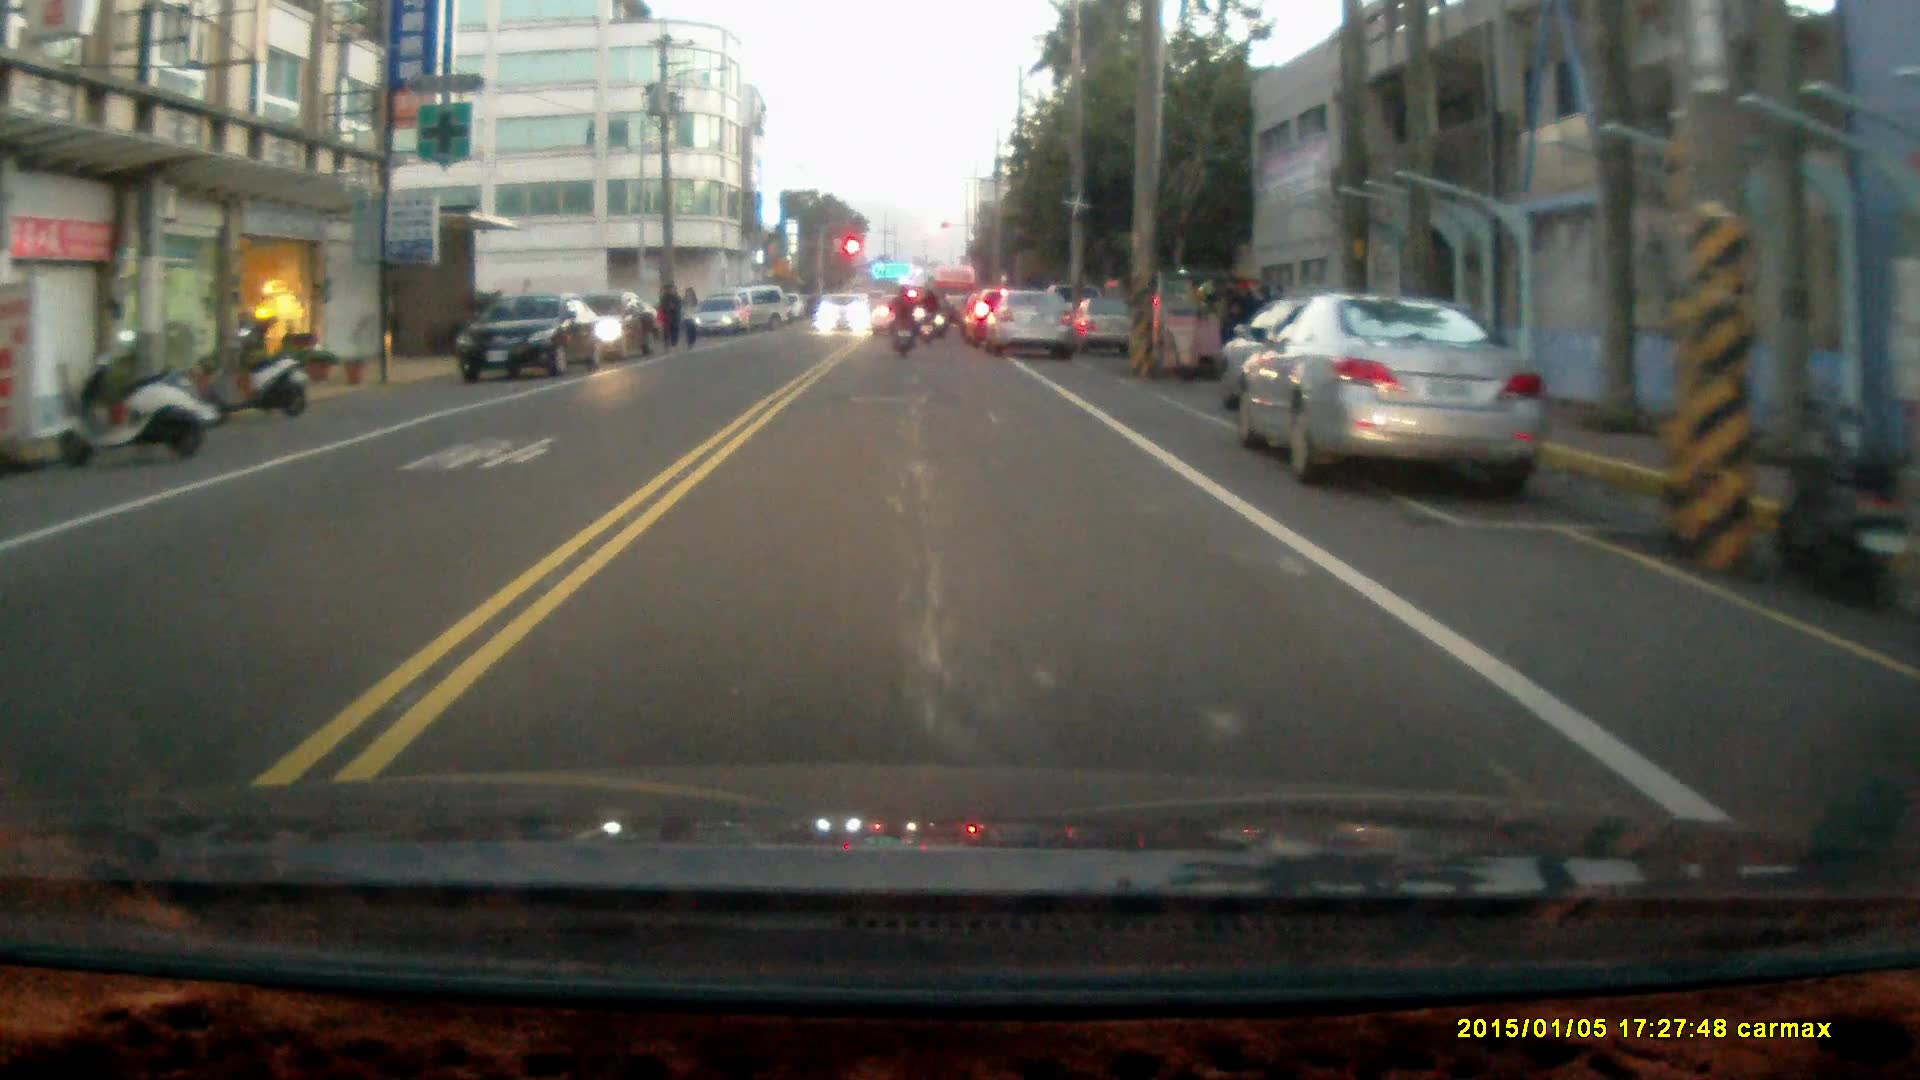pedestrian: (655, 277, 682, 351), (678, 280, 699, 352)
rider: (886, 284, 917, 361), (914, 283, 941, 348)
vehicle: (1238, 292, 1550, 497), (457, 290, 607, 385), (1116, 271, 1239, 379), (985, 286, 1080, 359), (814, 292, 869, 337)
